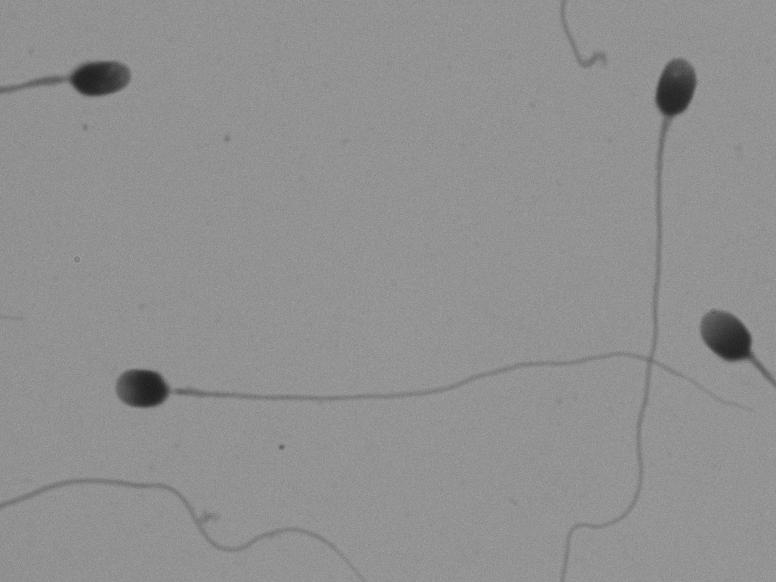Abnormal: (23, 20, 167, 161)
Normal: (85, 297, 692, 463), (554, 45, 701, 567), (683, 247, 768, 423)
